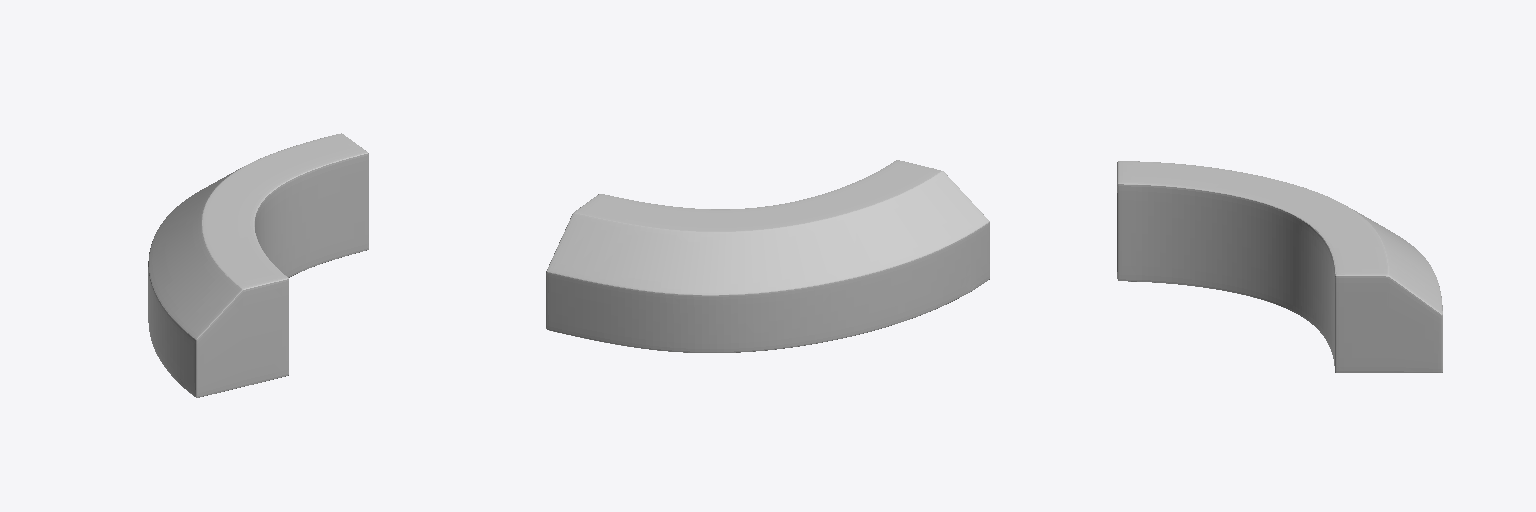
The model's file is InsideBend_HP.obj.
3 renders of one model, left to right at view 1: azimuth 30°, elevation 25°; view 2: azimuth 150°, elevation 25°; view 3: azimuth 270°, elevation 25°, orthographic.
Visible parts, largest first — view 1: InsideBend; view 2: InsideBend; view 3: InsideBend.
Boxes of the visible parts, x1=… form: InsideBend: x1=148, y1=133, x2=368, y2=397; InsideBend: x1=546, y1=160, x2=989, y2=352; InsideBend: x1=1117, y1=161, x2=1442, y2=372.
Bounding box in the file's own units: 3 × 0.9999 × 3.